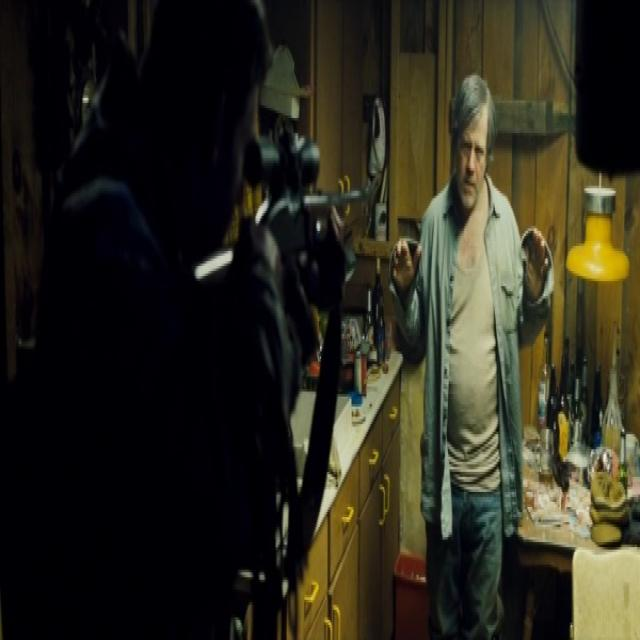rifle: (195, 113, 377, 365)
